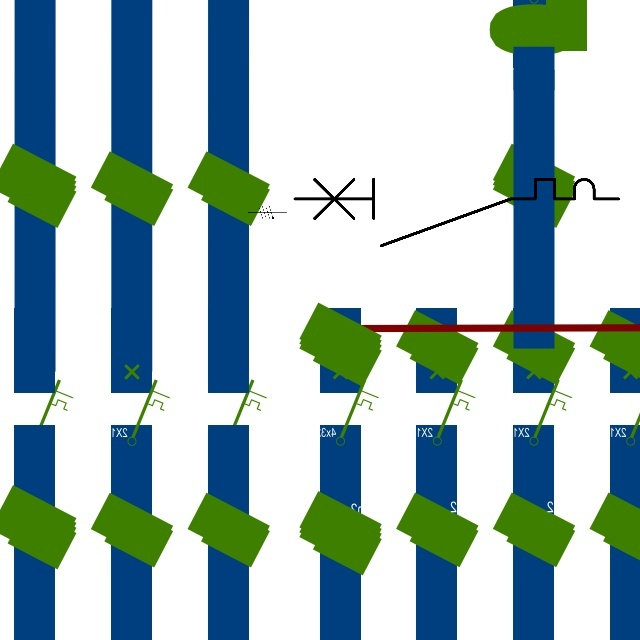interruptor_termomagnetico: (286, 171, 627, 254)
